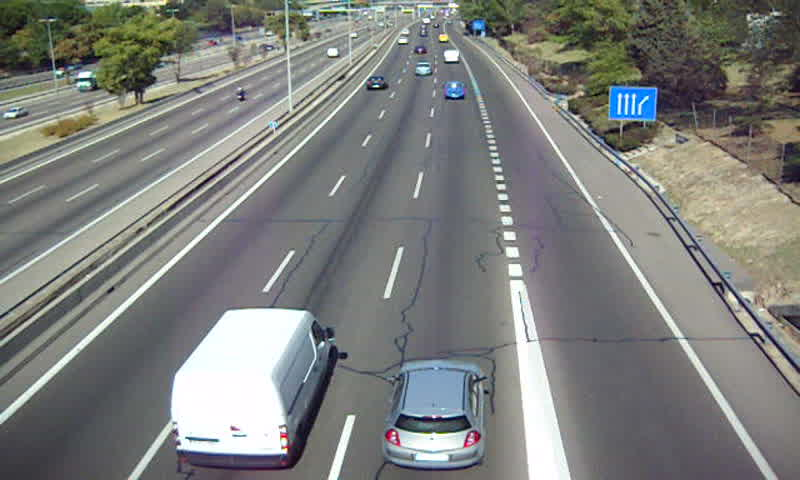car: (385, 360, 485, 470), (442, 81, 466, 101), (365, 76, 388, 91), (413, 62, 432, 77)
van: (170, 308, 334, 470), (442, 50, 460, 64)
